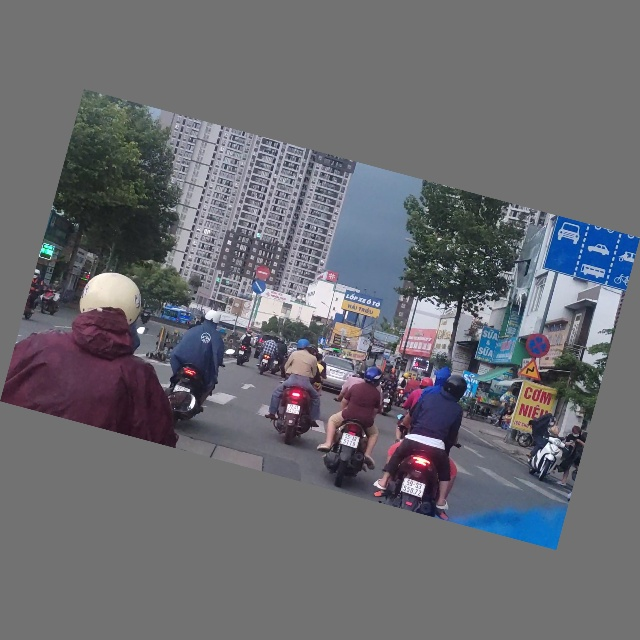I.407a: (318, 337, 327, 346)
I.434a: (382, 349, 392, 360)
P.102: (255, 266, 271, 282)
P.130: (523, 332, 552, 361)
R.302a: (251, 280, 267, 296)
R.415a: (543, 217, 640, 292)
W.202b: (517, 356, 547, 384)
